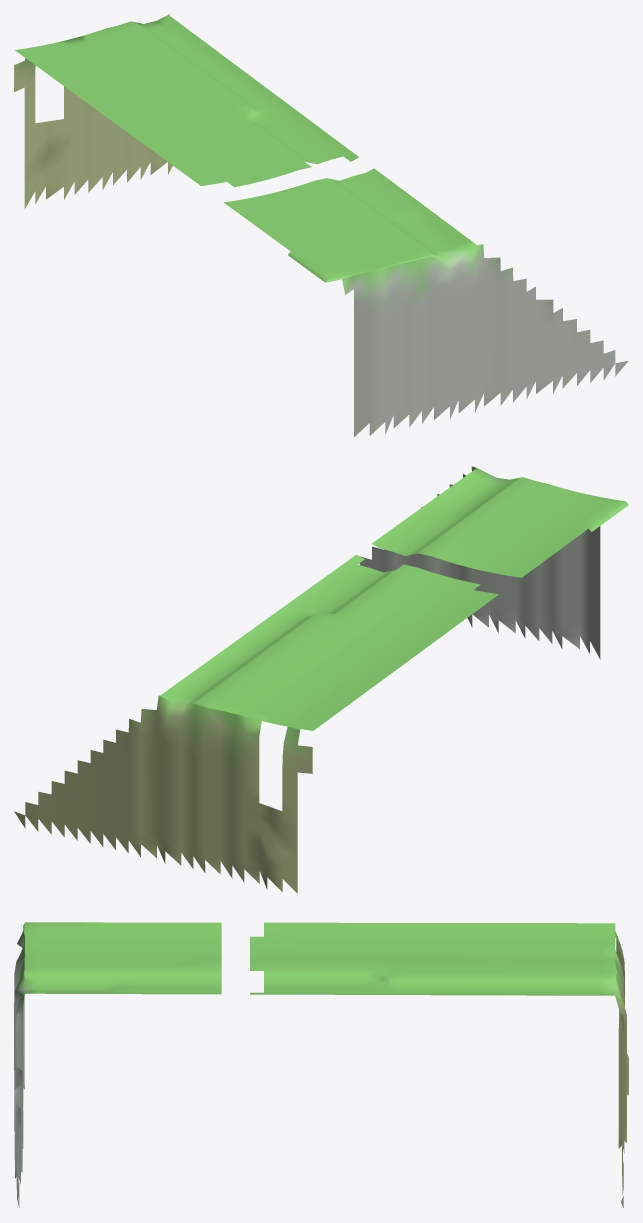
File: tile_7e4ccbd5fe0e_0_-1_1_0_lod0.glb
3 views of the same model, one above another, from view 1: azimuth 30°, elevation 25°; view 2: azimuth 150°, elevation 25°; view 3: azimuth 270°, elevation 25° (orthographic). The views are drawn at different scales.
Bounding box in the file's own units: 1.86 × 0.9775 × 3.5.
